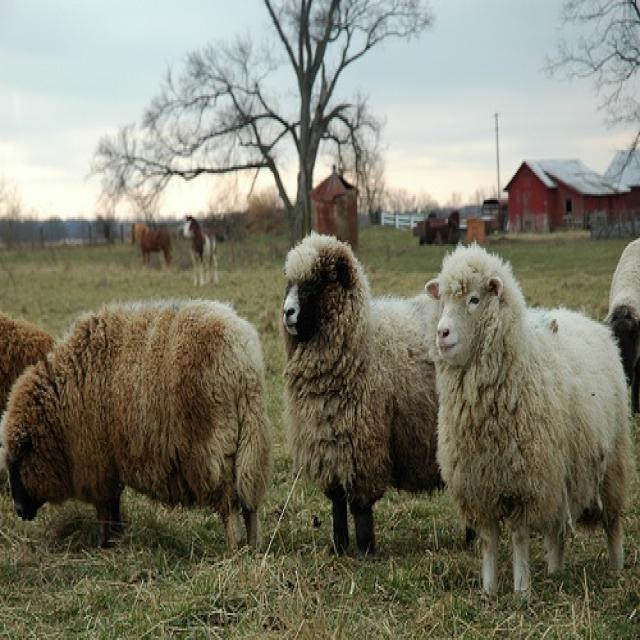horse: (183, 216, 230, 295), (133, 216, 176, 280)
sheep: (427, 245, 632, 601), (7, 299, 275, 562), (279, 232, 445, 558), (609, 236, 640, 416)
